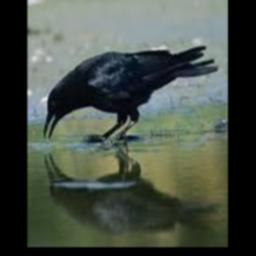Crow: (43, 44, 219, 144)
